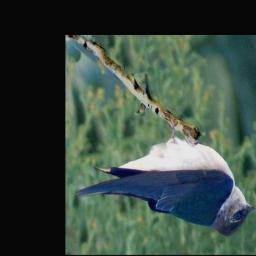Swallow: (75, 117, 256, 237)
